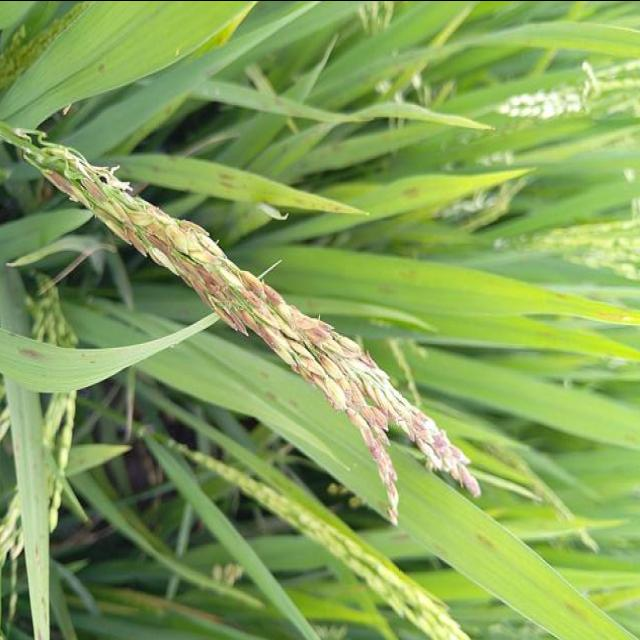Panicle Blight: (81, 180, 395, 521), (153, 208, 480, 496), (39, 165, 75, 197)
